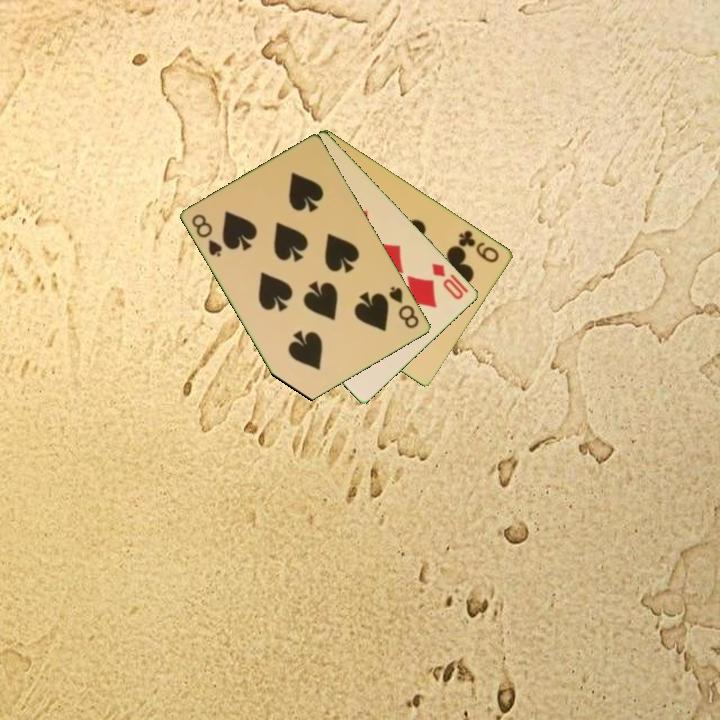10d: (428, 259, 467, 302)
8s: (188, 210, 226, 260), (386, 283, 422, 332)
9c: (455, 227, 503, 266)
